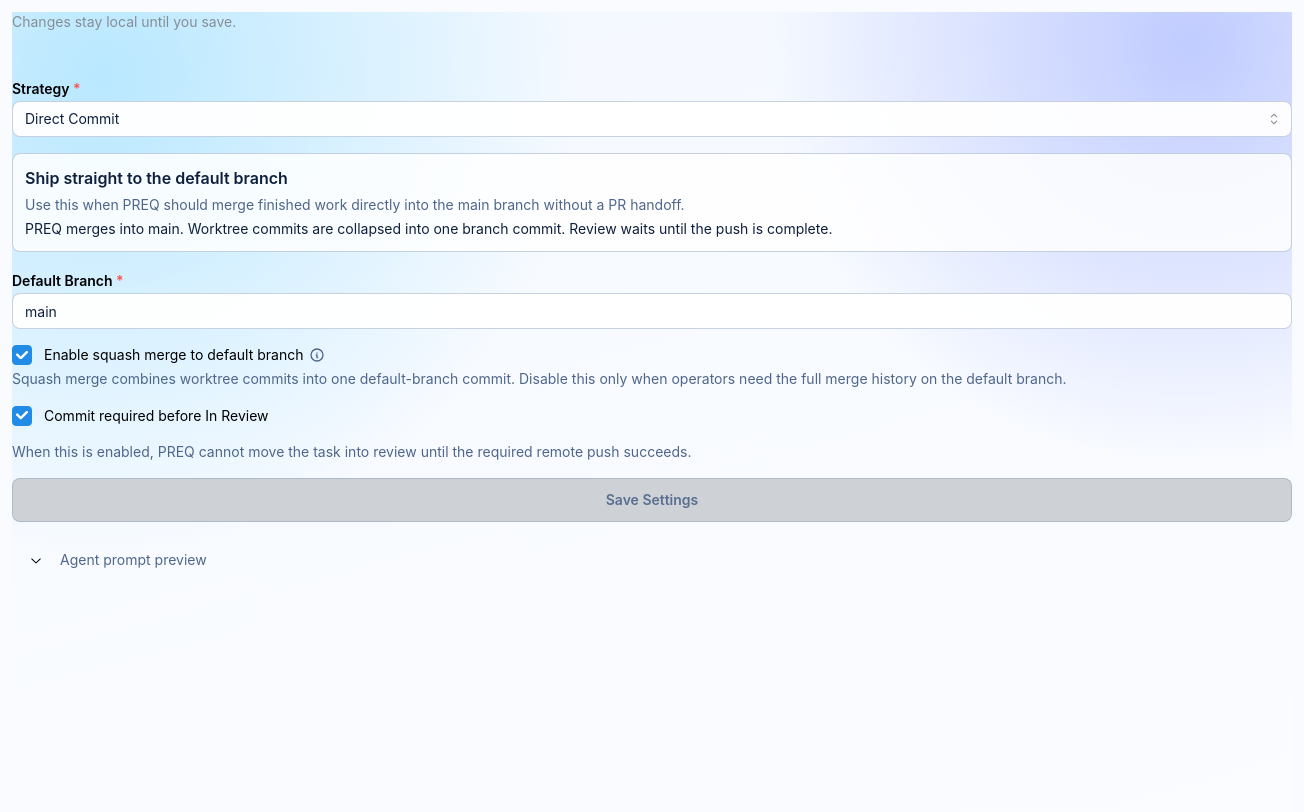
app/components/panels/deploy-settings-panel › explains the selected strategy before raw deploy controls
The width and height of the screenshot is (1304, 812).
Expected: the text "Ship straight to the default branch" is shown, [25, 168, 288, 188]
Expected: the text "Worktree commits are collapsed into one branch commit" is shown, [25, 220, 832, 237]
Select "Feature Branch" in the dropdown labelled "Strategy *" at (652, 119), box [12, 101, 1292, 137]
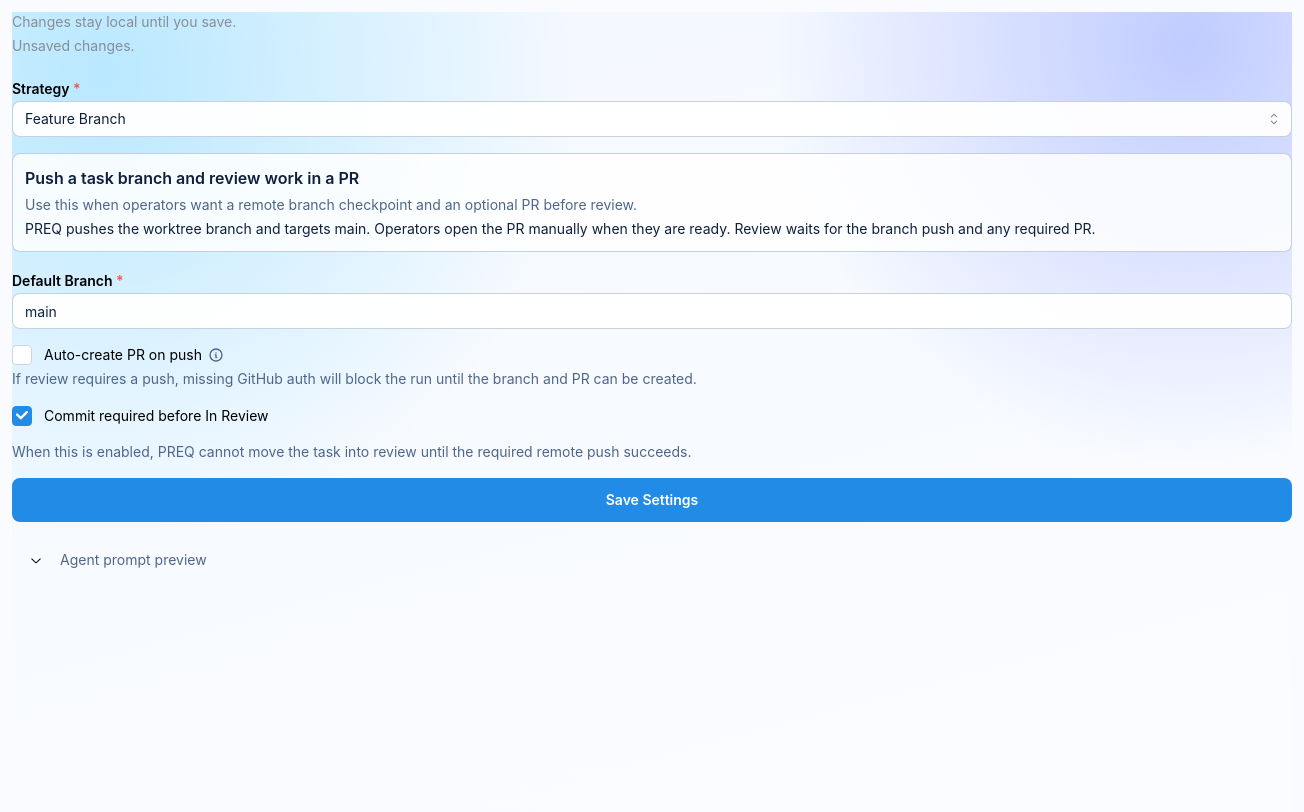
Now the text "Push a task branch and review work in a PR" is shown, box [25, 168, 359, 188]
Now the text "Operators open the PR manually when they are ready" is shown, box [25, 220, 1096, 237]
